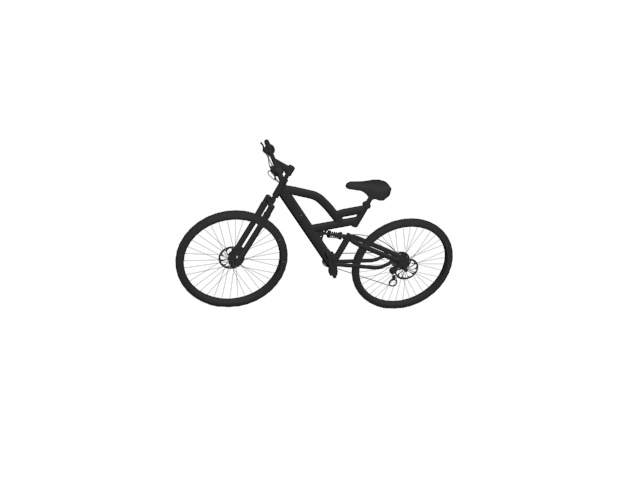bike: (169, 137, 456, 312)
